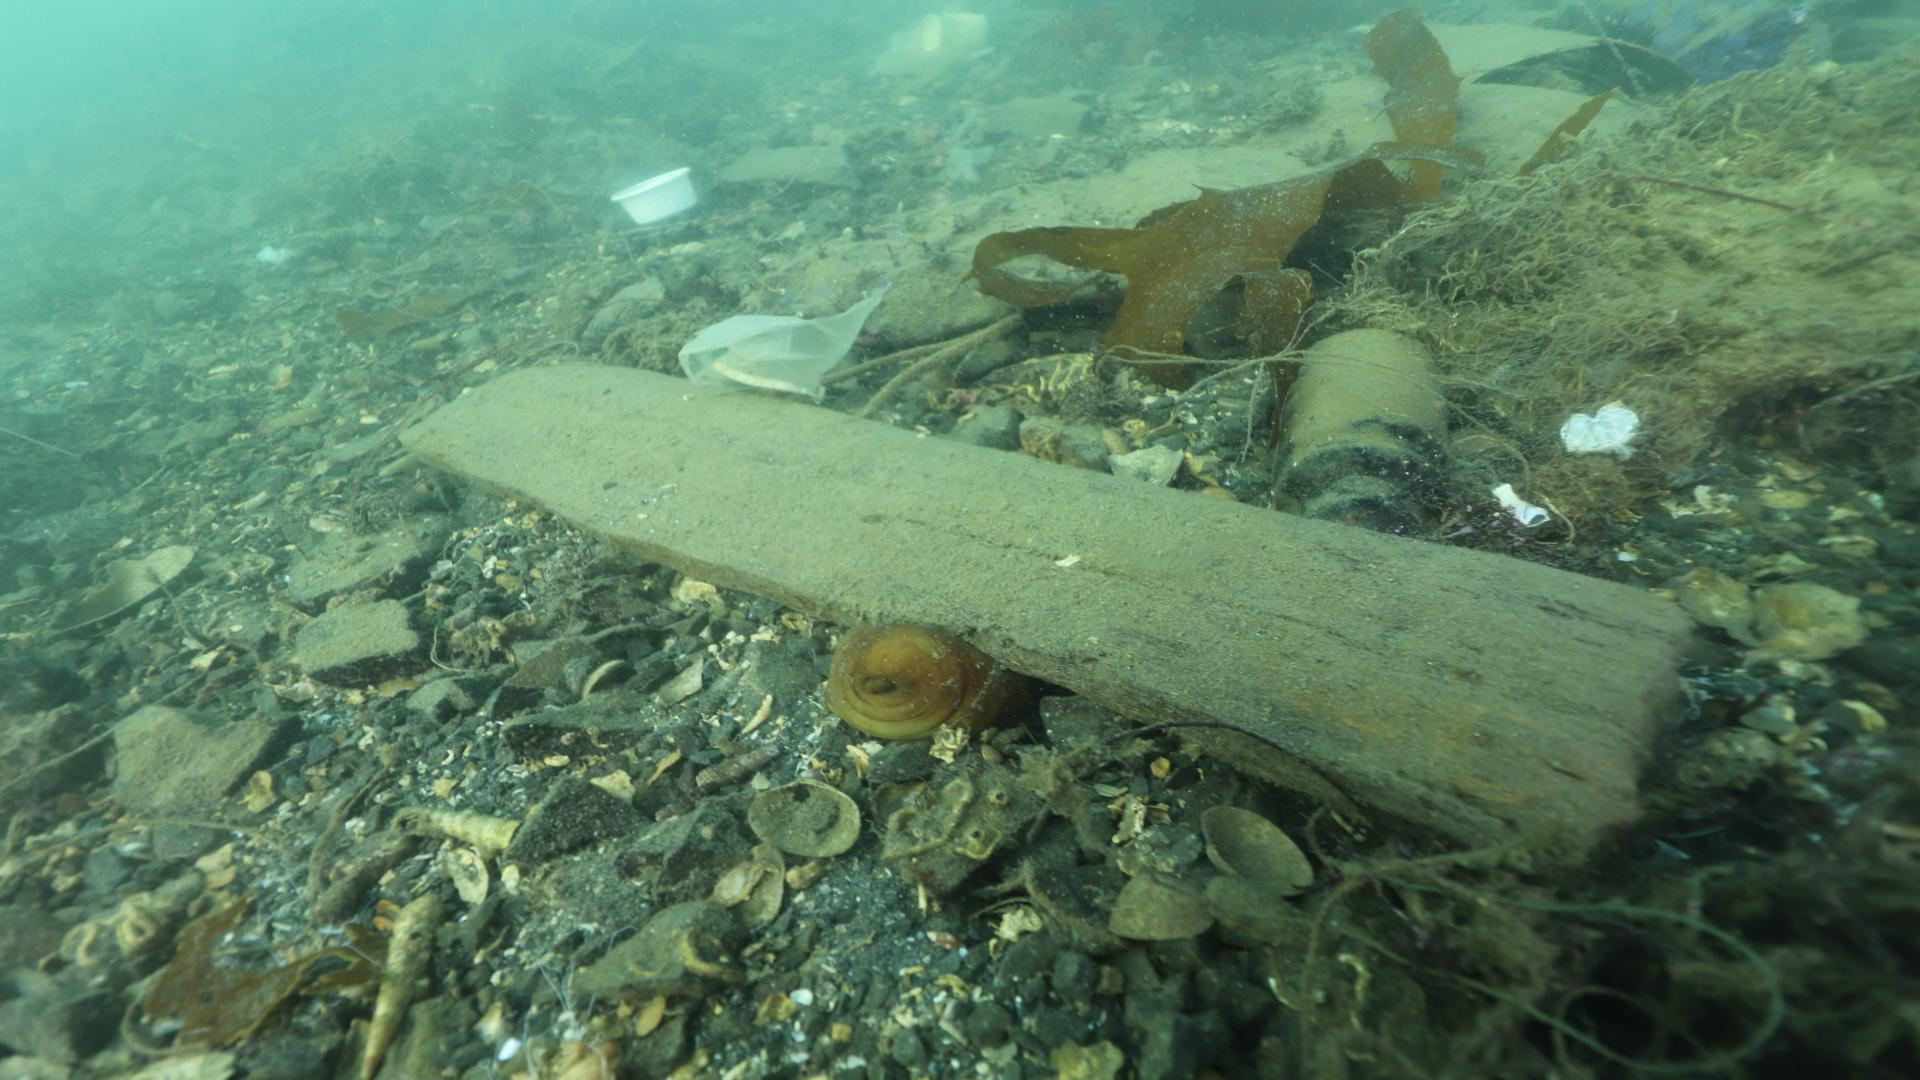wood: (401, 349, 1698, 898)
